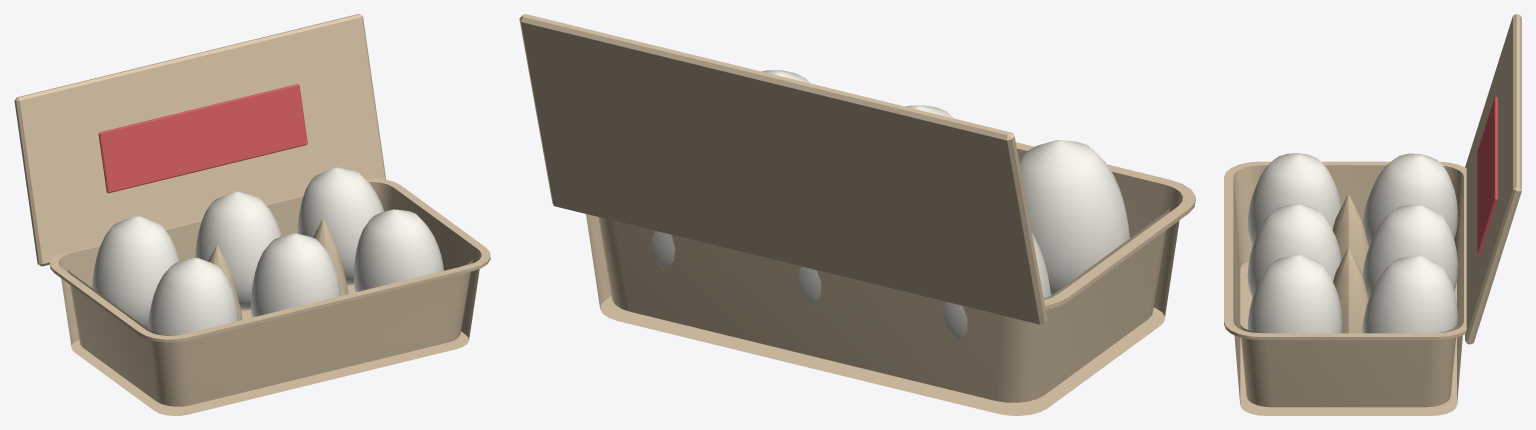
Rendered from fresh-produce-and-groceries-egg-box-six-c8173976__24400.glb.
3 renders of one model, left to right at view 1: azimuth 30°, elevation 25°; view 2: azimuth 150°, elevation 25°; view 3: azimuth 270°, elevation 25°, orthographic. The views are drawn at different scales.
Visible parts, largest first — view 1: egg-box-six; view 2: egg-box-six; view 3: egg-box-six.
Part boxes in pixels (bbox=[...]): egg-box-six: bbox=[14, 14, 490, 415]; egg-box-six: bbox=[519, 14, 1195, 415]; egg-box-six: bbox=[1224, 14, 1521, 415].
Size of the model in its own units: 0.18 by 0.1132 by 0.1291.
